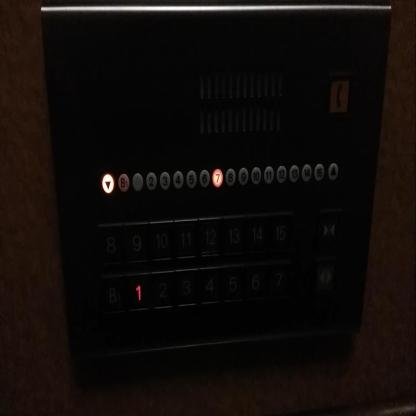1: (124, 269, 152, 312)
10: (147, 218, 176, 262), (250, 165, 262, 185)
11: (172, 217, 200, 261), (262, 164, 274, 184)
12: (196, 214, 225, 259), (276, 163, 287, 184)
13: (221, 213, 250, 257), (288, 163, 300, 183)
14: (245, 210, 272, 255), (301, 162, 312, 181)
15: (268, 208, 294, 252), (314, 161, 325, 182)
2: (148, 267, 176, 311), (145, 170, 157, 192)
3: (173, 266, 200, 308), (159, 169, 171, 191)
4: (197, 264, 226, 308), (172, 170, 184, 190)
5: (222, 262, 250, 306), (186, 169, 198, 189)
6: (198, 167, 210, 188)
7: (212, 166, 223, 188)
8: (96, 219, 125, 266), (224, 166, 236, 186)
9: (121, 218, 151, 265), (237, 166, 249, 186)
B1: (117, 172, 130, 192)
alarm: (327, 160, 338, 180)
call: (328, 73, 350, 117)
down: (101, 172, 115, 196)
empty: (132, 172, 144, 192)
